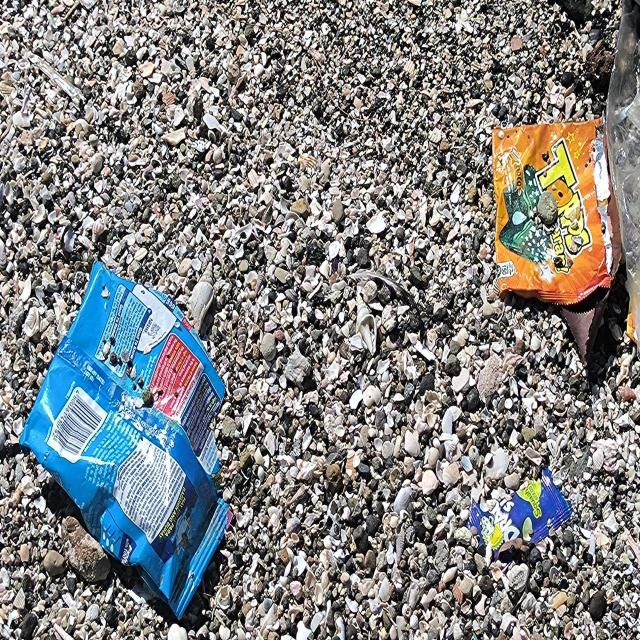plastic_waste: (21, 261, 234, 627), (498, 117, 632, 307), (468, 466, 575, 562)
